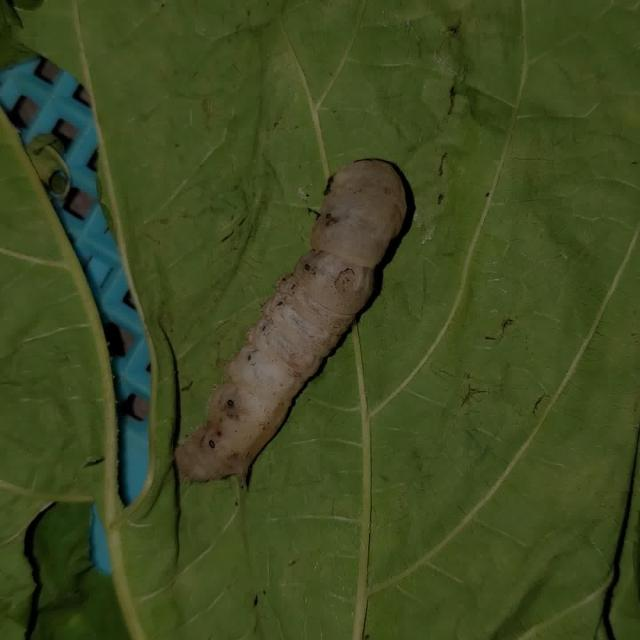Grasserie: (133, 128, 456, 541)
